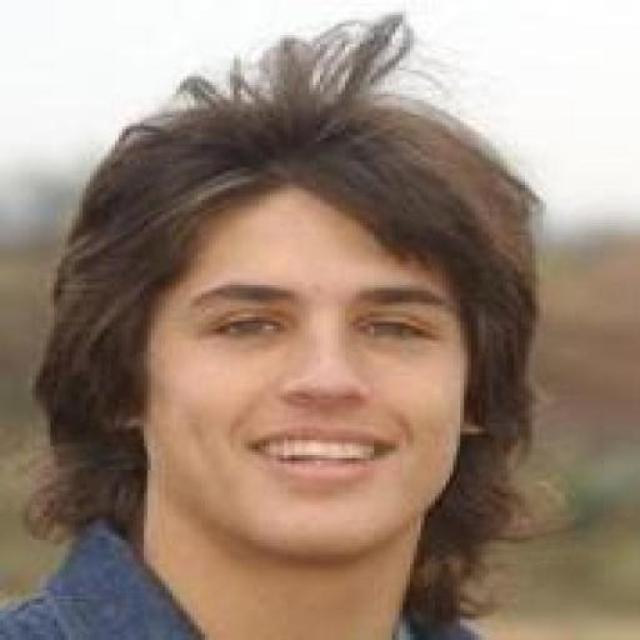bareface: (142, 164, 458, 556)
